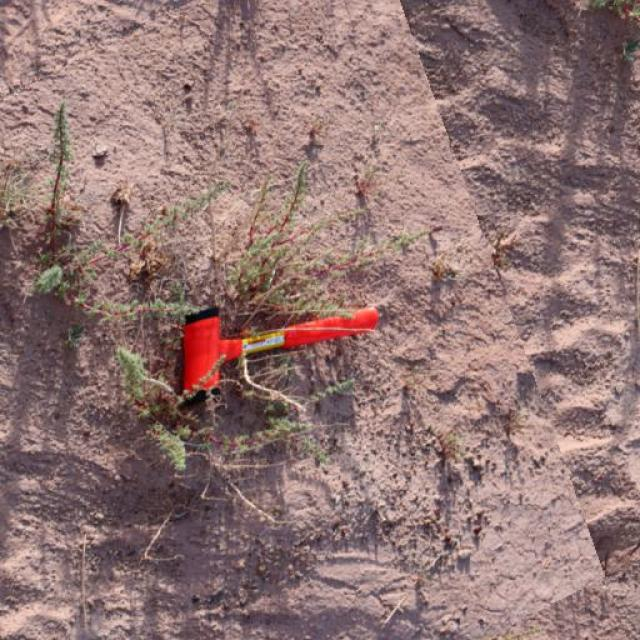mallet: (178, 302, 380, 398)
